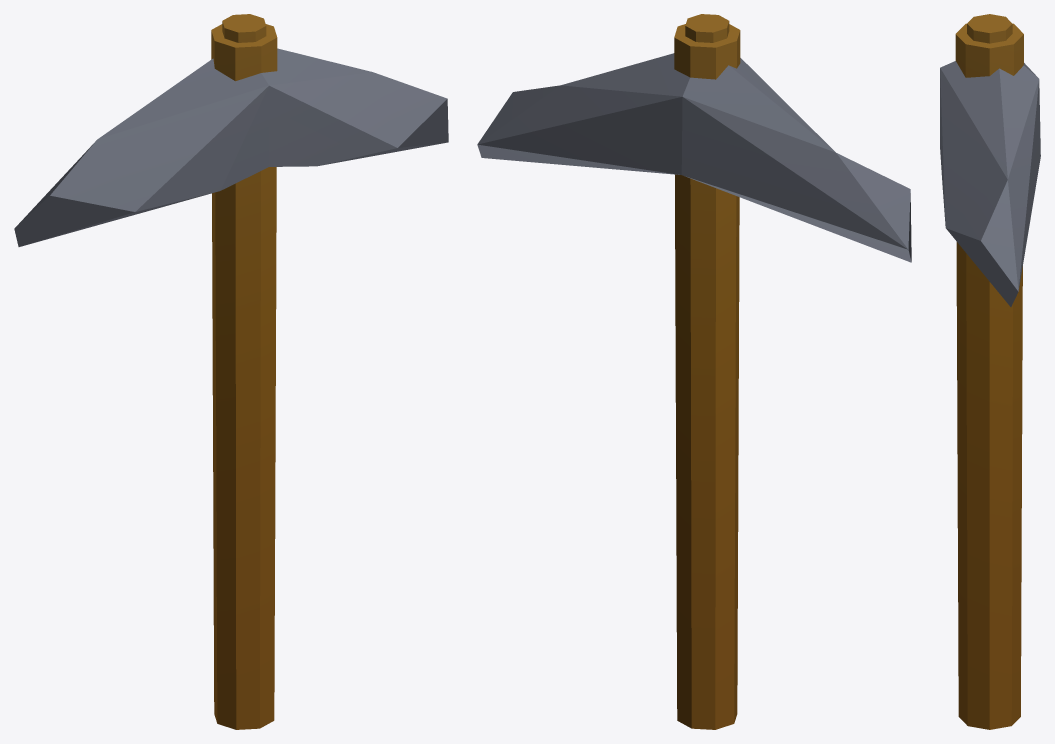
Rendered from Pickaxe.fbx.
3 views of the same model, side by side, from view 1: azimuth 30°, elevation 25°; view 2: azimuth 150°, elevation 25°; view 3: azimuth 270°, elevation 25° (orthographic).
Parts seen in each view (by area): view 1: Pickaxe1; view 2: Pickaxe1; view 3: Pickaxe1.
Part boxes in pixels (x1,y1,x2,y2): Pickaxe1: (14,14,448,729); Pickaxe1: (477,14,911,729); Pickaxe1: (940,14,1040,729).
Bounding box in the file's own units: 58.75 × 90.34 × 11.9.
